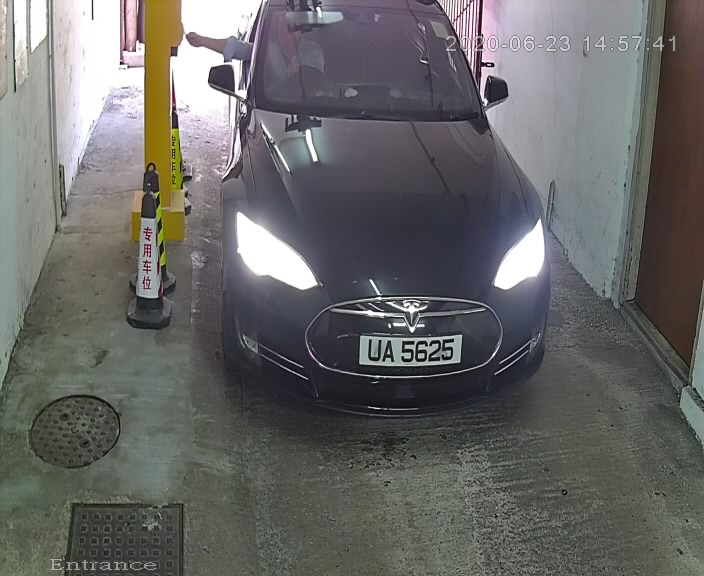privatecar: (191, 1, 566, 419)
